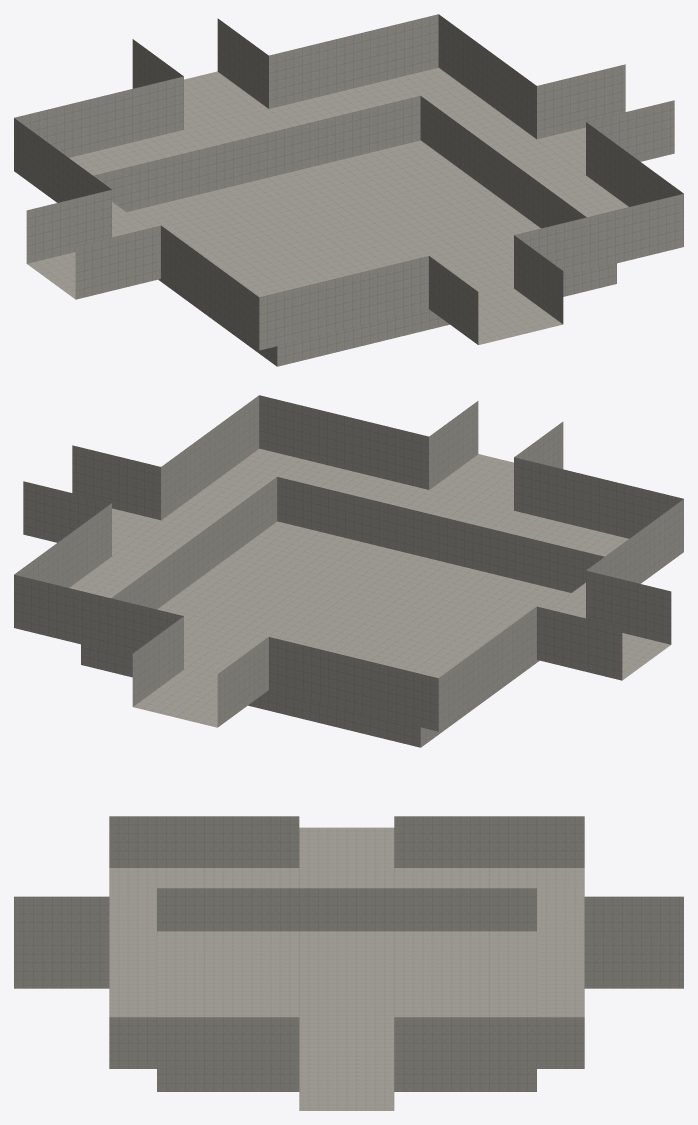
The model's file is ms3302_12_room_N_E_S_W_exit.FBX.
3 views of the same model, one above another, from view 1: azimuth 30°, elevation 25°; view 2: azimuth 150°, elevation 25°; view 3: azimuth 270°, elevation 25° (orthographic). The views are drawn at different scales.
Parts seen in each view (by area): view 1: Plane001; view 2: Plane001; view 3: Plane001.
Part boxes in pixels (box(x1,y1,x2,y2)): Plane001: box(14, 14, 683, 366); Plane001: box(14, 395, 683, 747); Plane001: box(14, 816, 683, 1110).
Bounding box in the file's own units: 7050 × 1100 × 7050.
